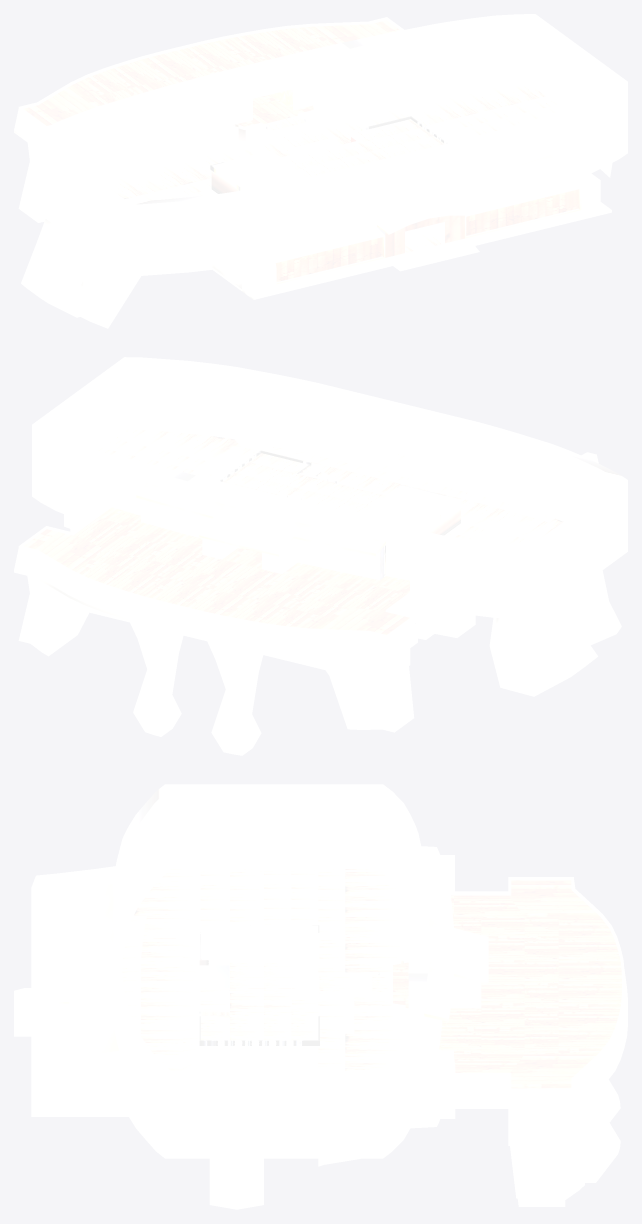
Rendered from mansion_main.glb.
The picture shows the model from 3 angles, top to bottom: view 1: azimuth 30°, elevation 25°; view 2: azimuth 150°, elevation 25°; view 3: azimuth 270°, elevation 25°; orthographic projection. The views are drawn at different scales.
Parts seen in each view (by area): view 1: Box003.003; view 2: Box003.003; view 3: Box003.003.
Boxes of the visible parts, x1,y1,x2,y2 form: Box003.003: [14, 14, 627, 328]; Box003.003: [14, 357, 627, 755]; Box003.003: [14, 784, 627, 1209].
Size of the model in its own units: 273 by 91.88 by 226.
1 material, 1 textured.
